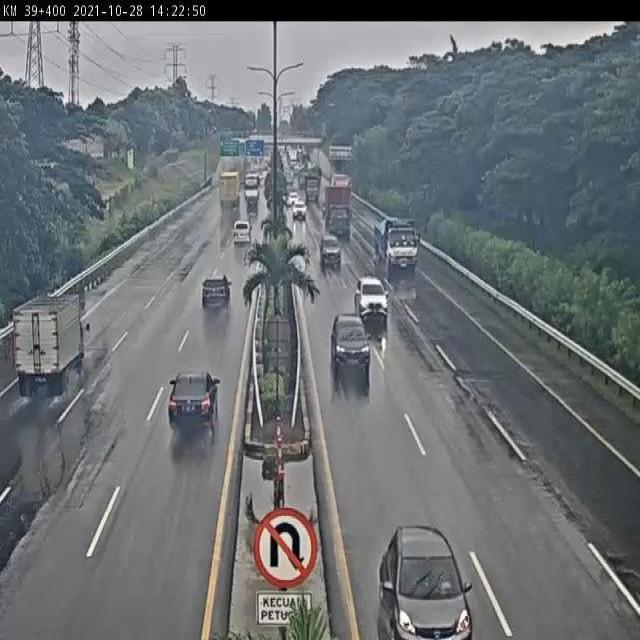car: (166, 369, 222, 436), (330, 313, 376, 383)
truck-l-: (374, 217, 422, 276)
truck-m-: (10, 292, 90, 399)
truck-xl-: (324, 188, 353, 243)
